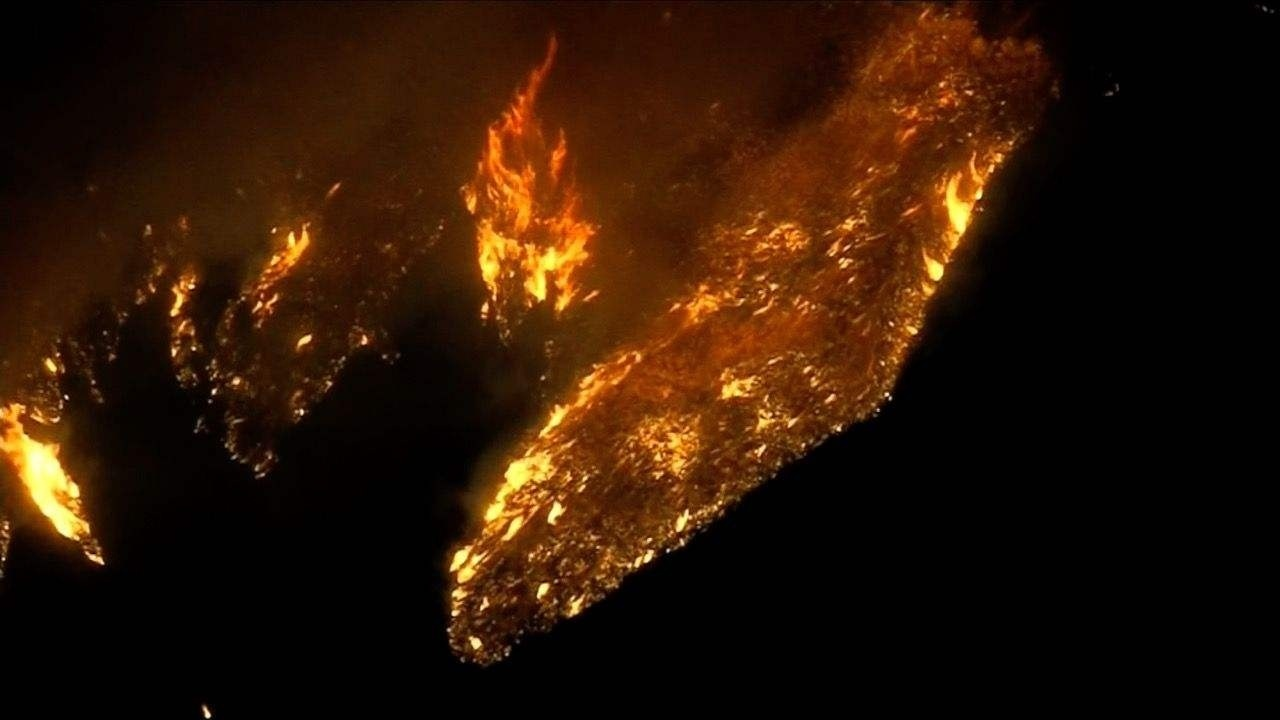fire: (448, 3, 1042, 716), (150, 199, 363, 470), (0, 362, 103, 570)
